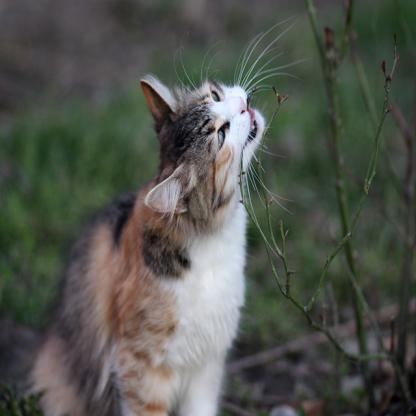cat: (0, 74, 272, 415)
